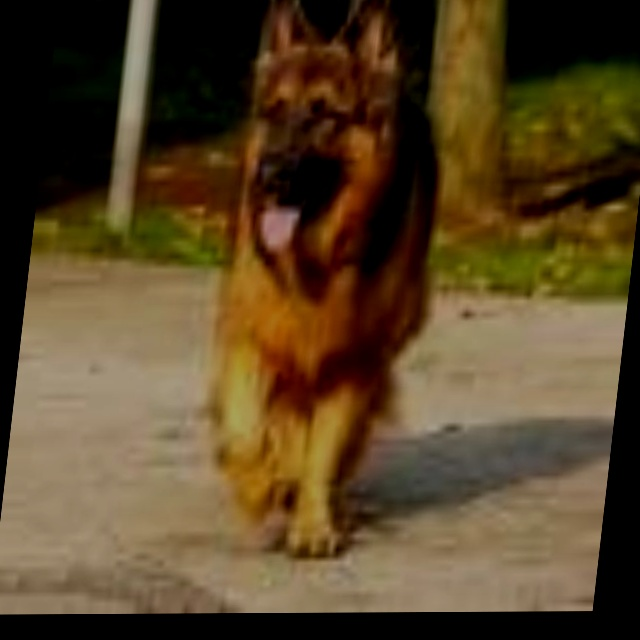dog: (148, 0, 481, 567)
